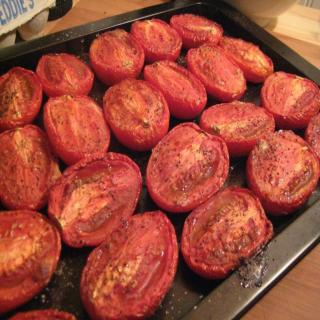Tomato: (80, 210, 178, 320), (49, 151, 142, 249), (182, 187, 271, 276), (145, 121, 230, 214), (248, 124, 318, 213), (0, 208, 60, 310), (41, 95, 111, 165), (0, 125, 57, 210), (102, 81, 168, 152), (200, 100, 275, 153), (142, 60, 206, 116), (260, 68, 320, 127), (186, 46, 250, 98), (90, 27, 144, 82), (220, 36, 274, 86), (0, 66, 41, 126), (36, 53, 92, 95), (130, 20, 182, 60), (169, 12, 222, 47)
